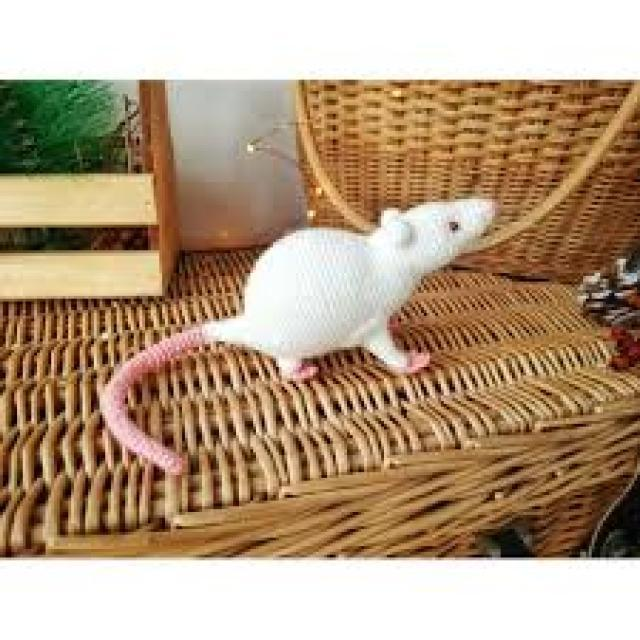Rat: (109, 144, 528, 418)
